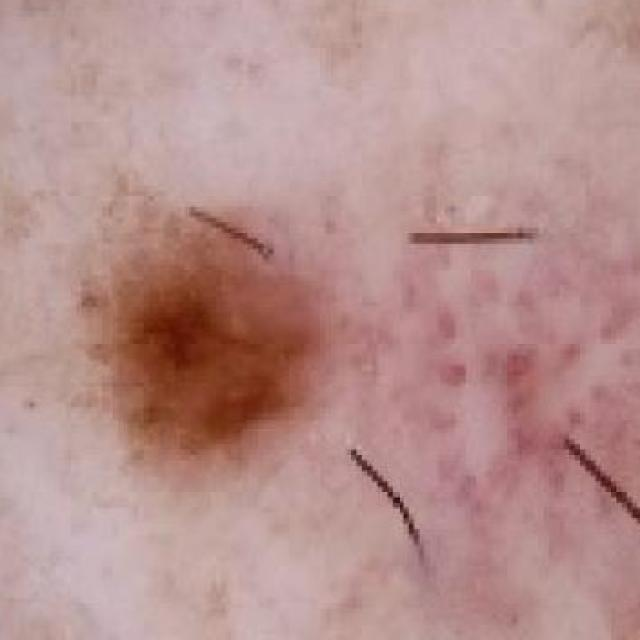DF: (0, 172, 425, 507)
